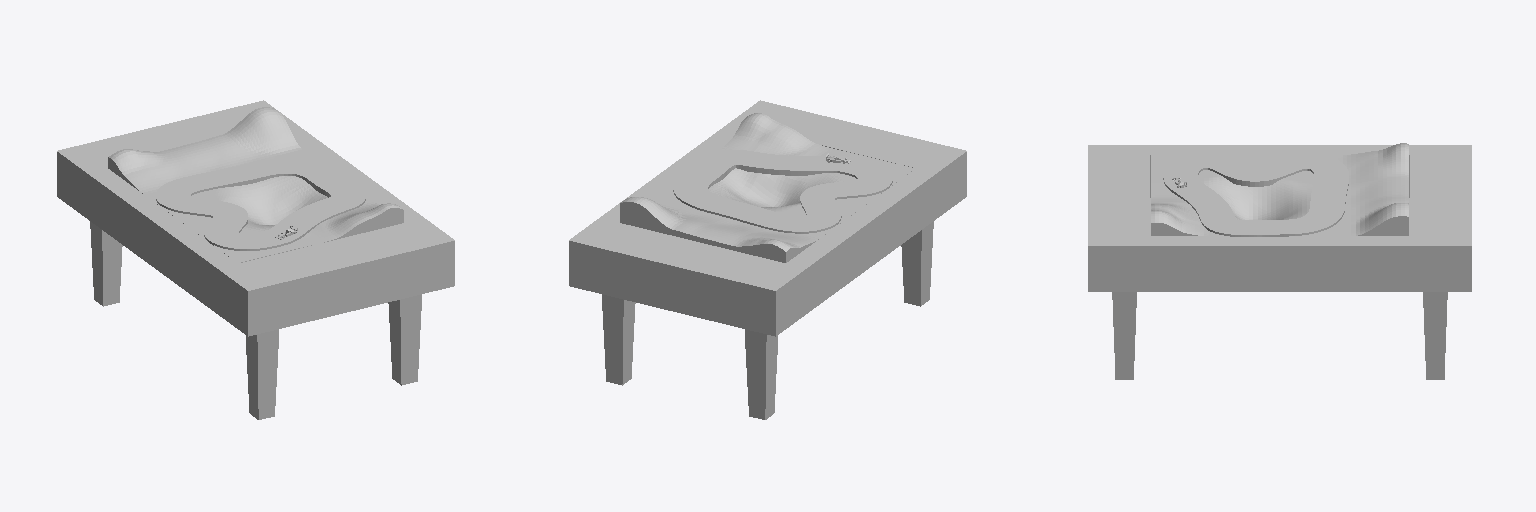
Rendered from NewestTisch53.obj.
3 renders of one model, left to right at view 1: azimuth 30°, elevation 25°; view 2: azimuth 150°, elevation 25°; view 3: azimuth 270°, elevation 25°, orthographic.
Visible parts, largest first — view 1: Tischplatte_wood_table_001, Landschaft_aerial_grass_rock, off, Bein1_wood_table_001, Bein4_wood_table_001.003, Bein3_wood_table_001.002; view 2: Tischplatte_wood_table_001, Landschaft_aerial_grass_rock, off, Bein2_wood_table_001.001, Bein3_wood_table_001.002, Bein4_wood_table_001.003; view 3: Tischplatte_wood_table_001, Landschaft_aerial_grass_rock, off, Bein1_wood_table_001, Bein2_wood_table_001.001.
Boxes of the visible parts, <box> form: Tischplatte_wood_table_001: <box>57,100,454,336</box>; Landschaft_aerial_grass_rock: <box>108,107,403,262</box>; off: <box>156,159,365,250</box>; Bein1_wood_table_001: <box>388,294,421,385</box>; Bein4_wood_table_001.003: <box>246,329,278,419</box>; Bein3_wood_table_001.002: <box>90,221,122,306</box>; Tischplatte_wood_table_001: <box>569,100,966,336</box>; Landschaft_aerial_grass_rock: <box>620,113,915,262</box>; off: <box>673,150,892,233</box>; Bein2_wood_table_001.001: <box>602,294,635,385</box>; Bein3_wood_table_001.002: <box>745,329,777,419</box>; Bein4_wood_table_001.003: <box>901,221,933,306</box>; Tischplatte_wood_table_001: <box>1088,145,1471,291</box>; Landschaft_aerial_grass_rock: <box>1151,143,1408,235</box>; off: <box>1163,153,1348,236</box>; Bein1_wood_table_001: <box>1112,292,1136,379</box>; Bein2_wood_table_001.001: <box>1423,292,1447,379</box>.
Bounding box in the file's own units: 5 × 3.91 × 8.